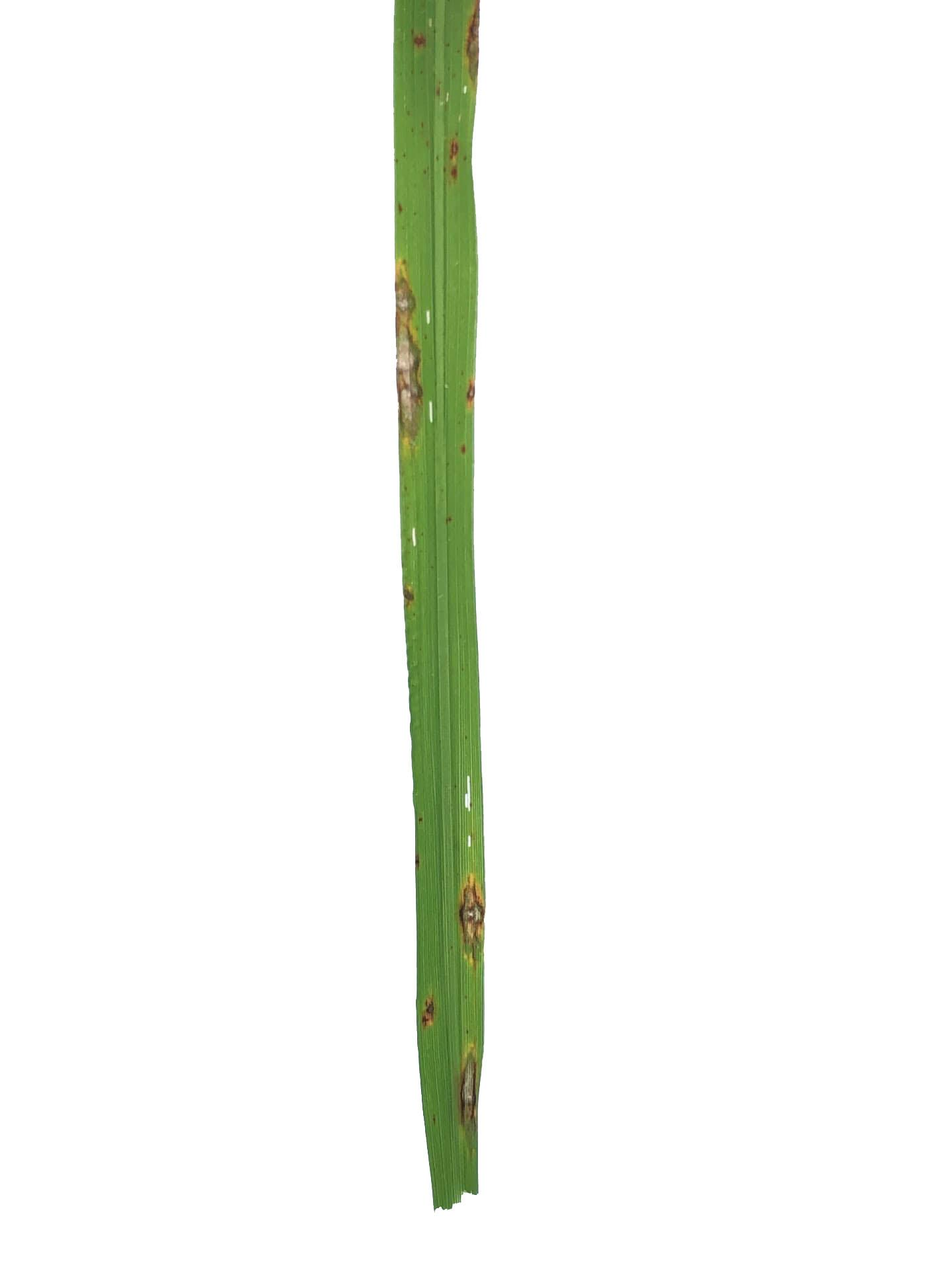Rice blast: (394, 257, 431, 459), (453, 1029, 483, 1134), (420, 986, 439, 1034), (447, 134, 462, 189), (467, 374, 477, 412)
